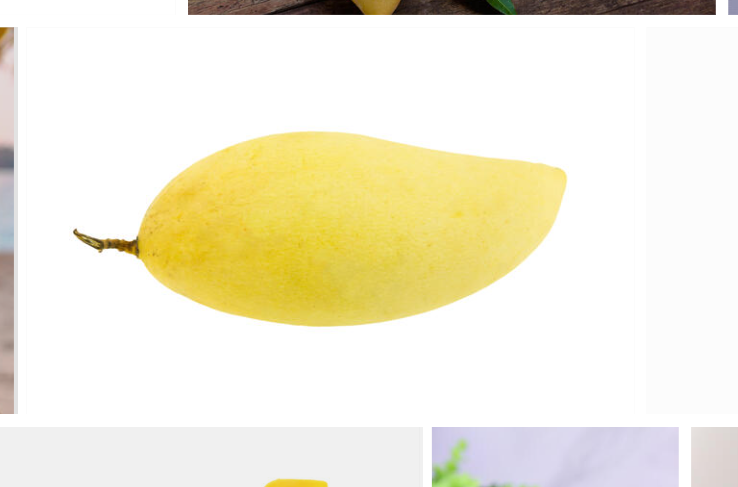mango: (140, 131, 563, 327)
